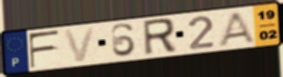2: (187, 15, 216, 51)
6: (110, 22, 137, 59)
A: (216, 10, 259, 46)
F: (27, 29, 62, 70)
R: (141, 16, 179, 57)
V: (62, 25, 98, 64)
